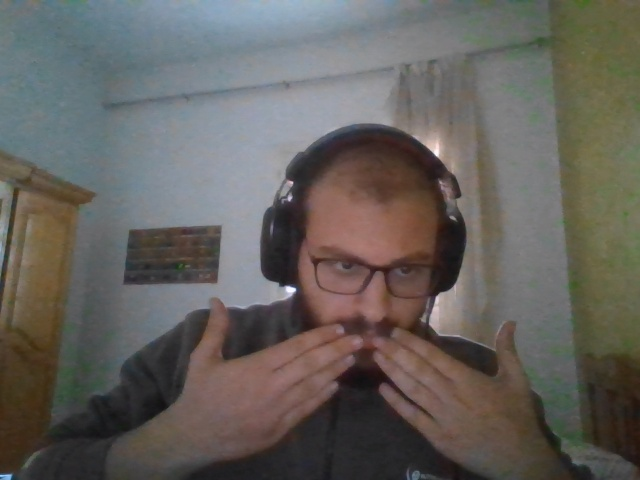Thank You: (195, 297, 526, 463)
